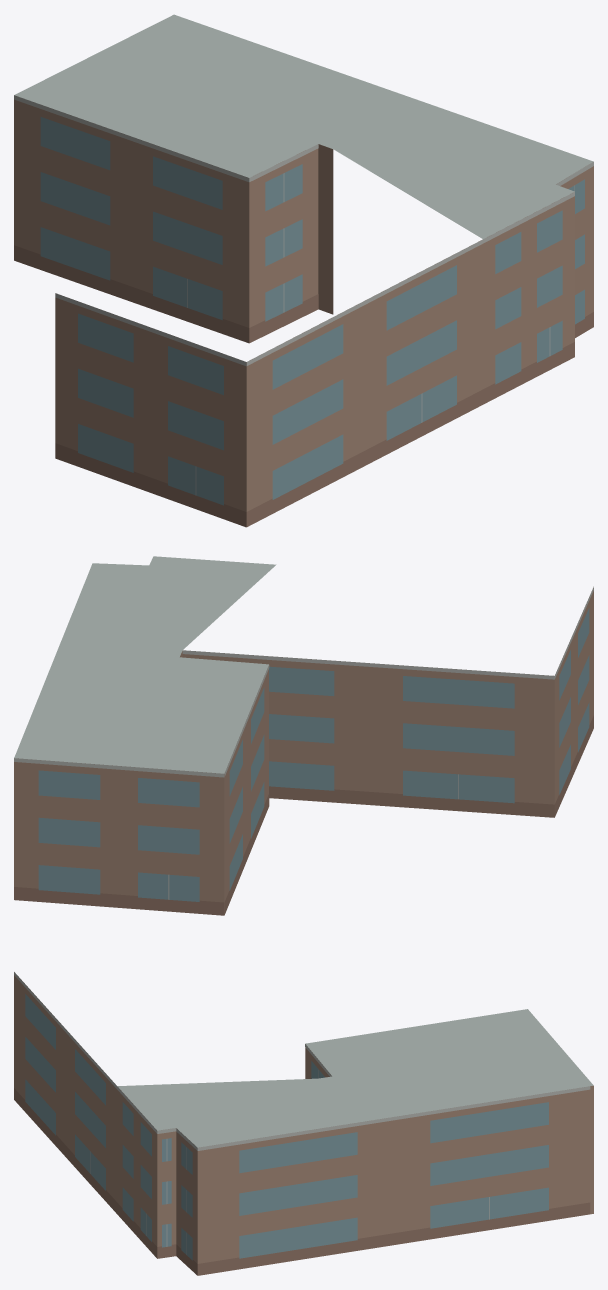
File: survey-upis-32751734.glb
3 views of the same model, one above another, from view 1: azimuth 30°, elevation 25°; view 2: azimuth 150°, elevation 25°; view 3: azimuth 270°, elevation 25° (orthographic). The views are drawn at different scales.
Parts seen in each view (by area): view 1: survey-upis-32751734.tmp; view 2: survey-upis-32751734.tmp; view 3: survey-upis-32751734.tmp.
Part boxes in pixels (box(x1,y1,x2,y2)): survey-upis-32751734.tmp: box(14, 14, 593, 527); survey-upis-32751734.tmp: box(14, 556, 593, 915); survey-upis-32751734.tmp: box(14, 972, 593, 1275).
Bounding box in the file's own units: 31.18 × 9.15 × 37.52.
